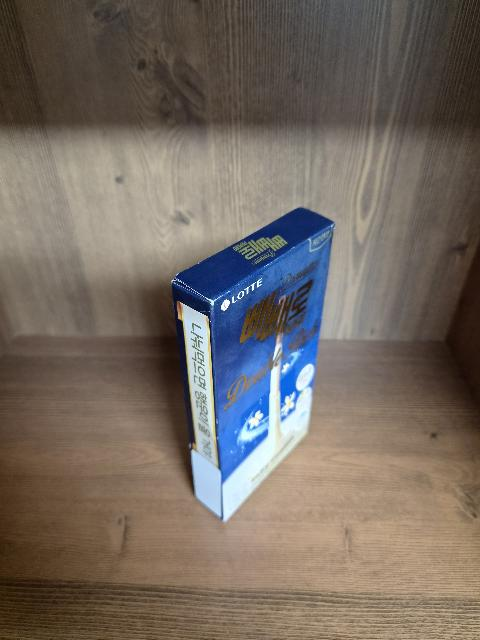pepero: (171, 206, 336, 524)
